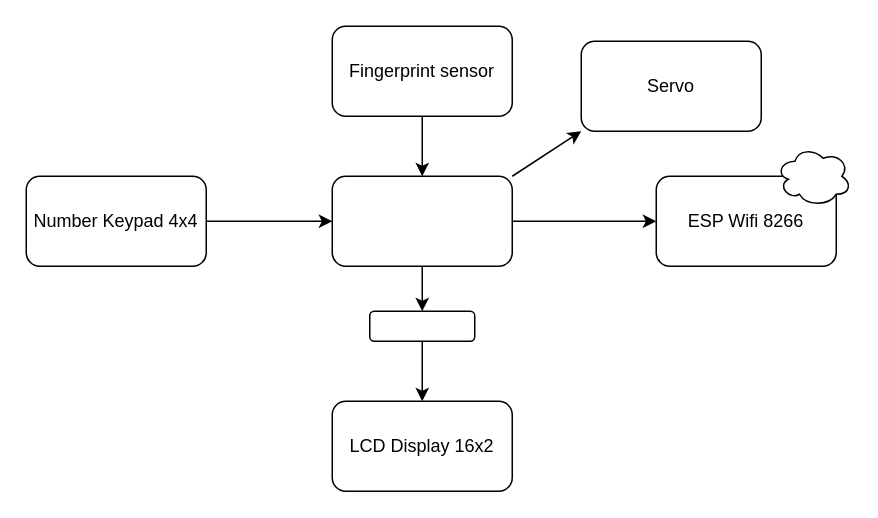
Some shapes in this 878 by 518 pixel diagram are drawn without their labels. Here are the shapes that lost their labels. From the top down, the centre of each, then its label:
At [813,175]: "Internet".
At [421,220]: "Arduino UNO".
At [421,325]: "I2C".
